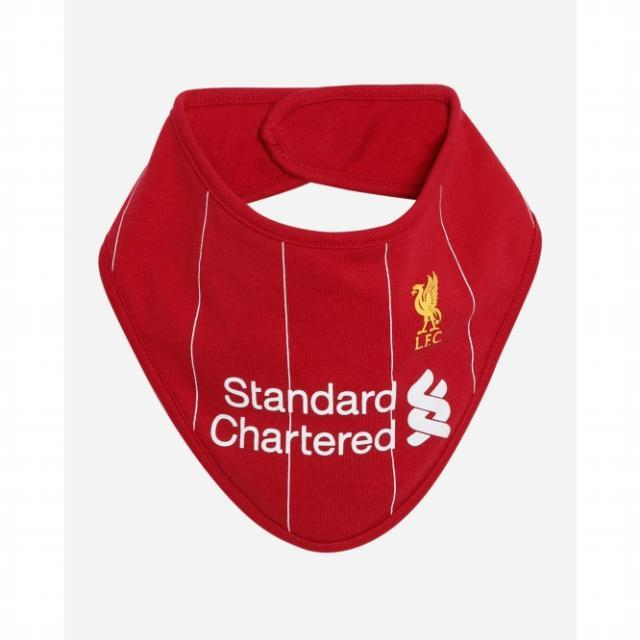Standard Chartered: (210, 368, 452, 458)
